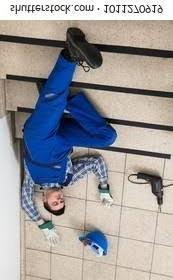fall: (16, 27, 126, 251)
